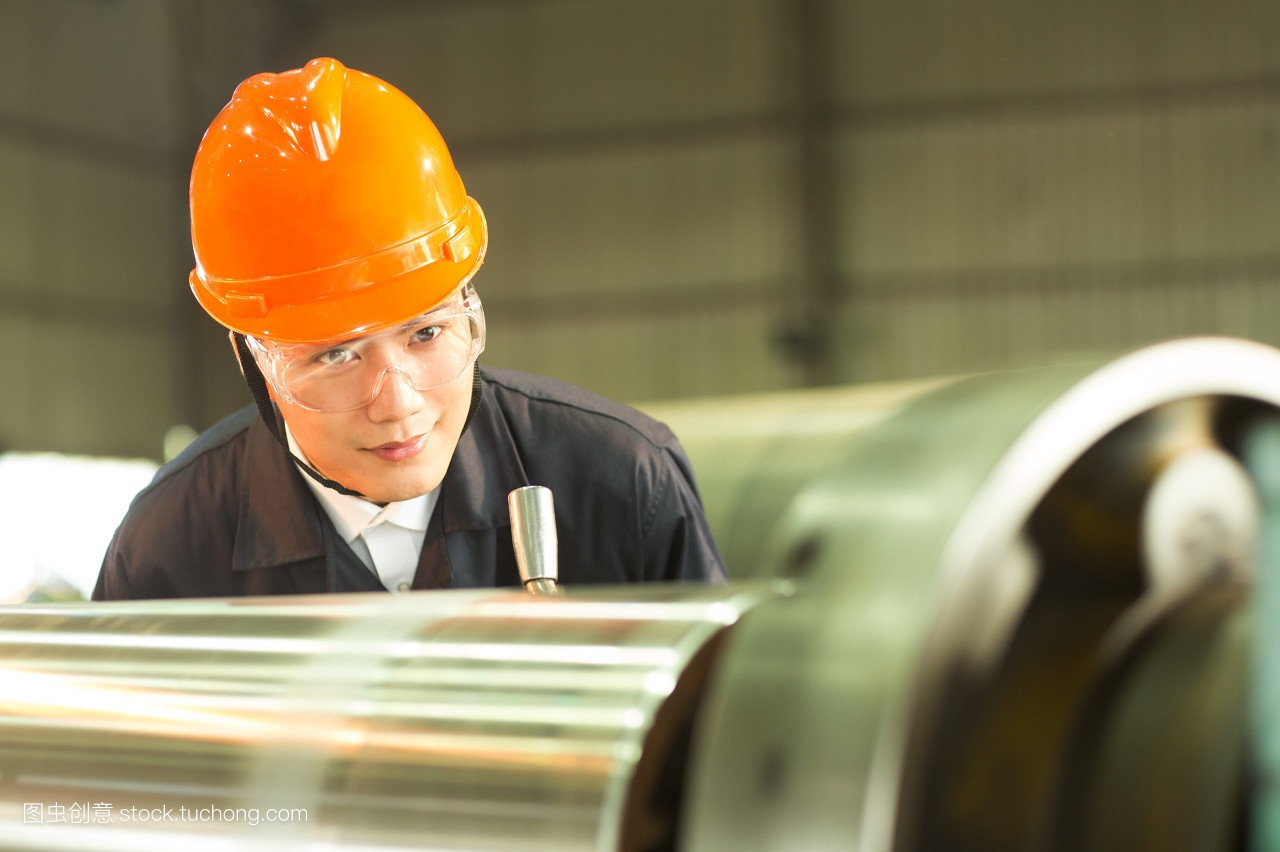yellow: (169, 64, 498, 505)
